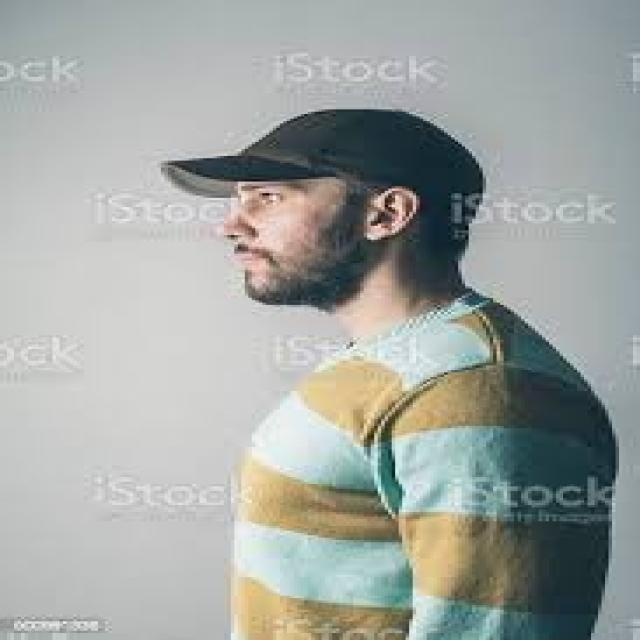3_gorra: (164, 107, 479, 200)
